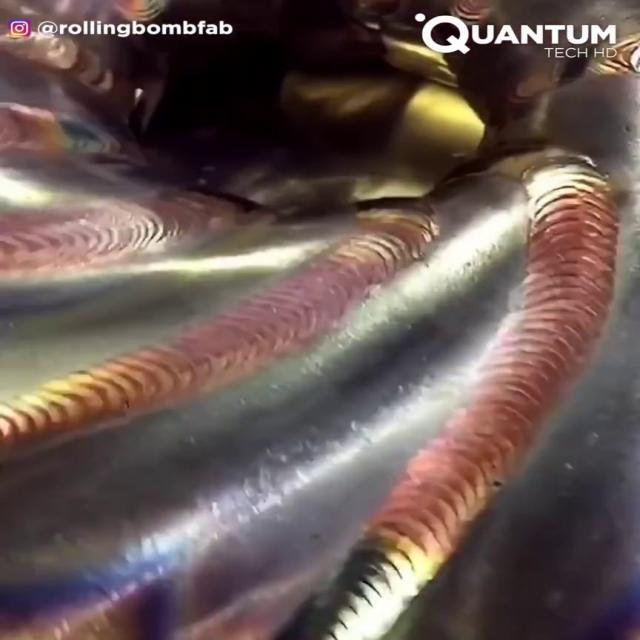Good Weld: (3, 228, 421, 430), (522, 169, 616, 441), (352, 450, 499, 622)
